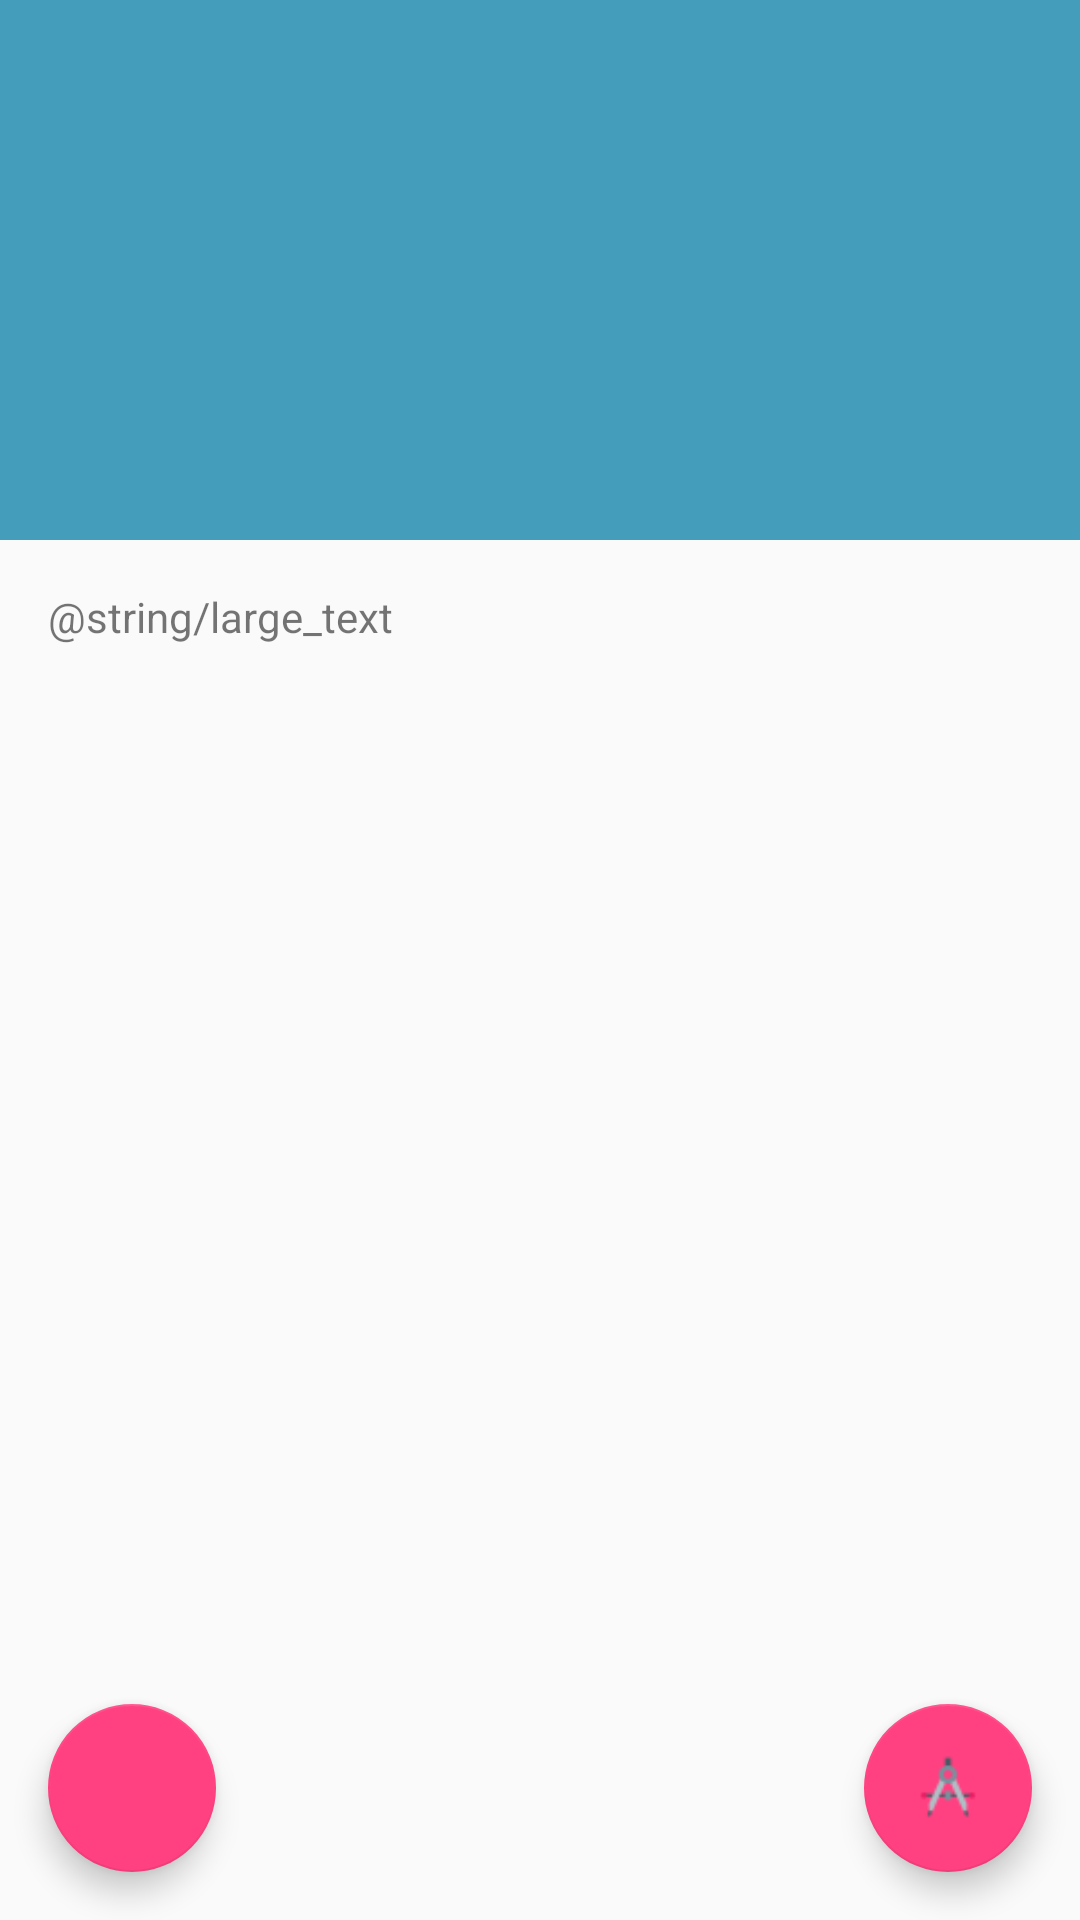

Named icons in this screenshot (1080 × 1920) and their centers, [x,y]:
drafting compass: [948,1788]
